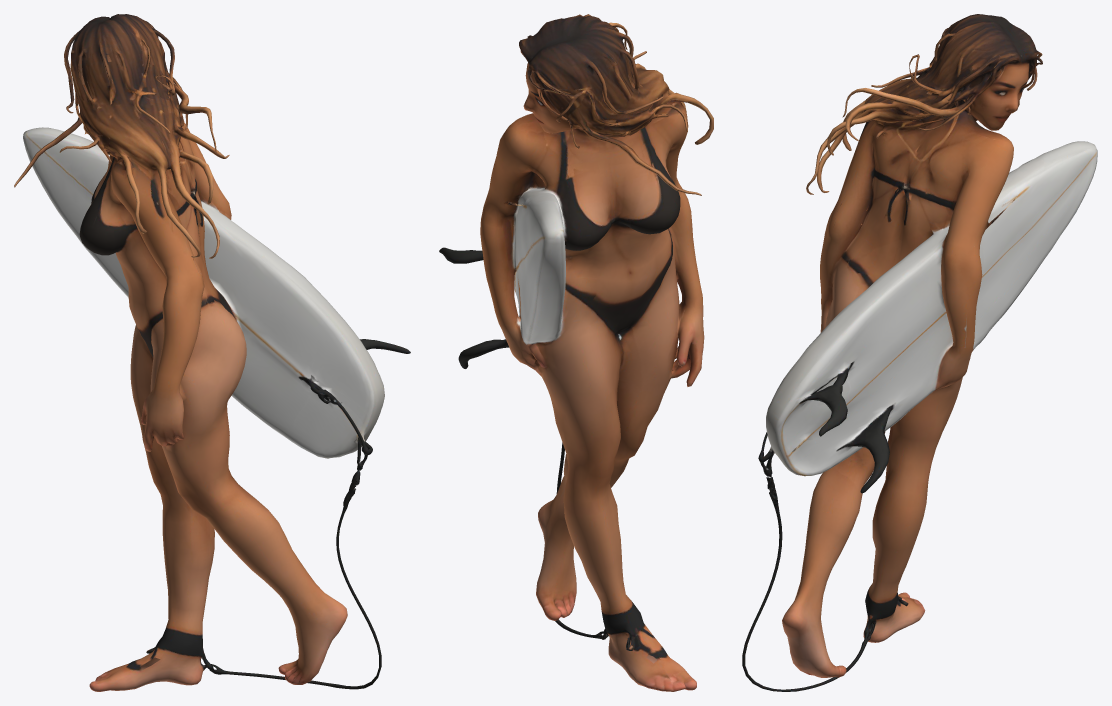
File: female_surfer_lean.glb
3 views of the same model, side by side, from view 1: azimuth 30°, elevation 25°; view 2: azimuth 150°, elevation 25°; view 3: azimuth 270°, elevation 25° (orthographic). The views are drawn at different scales.
Parts seen in each view (by area): view 1: tripo_node_350cb565-4360-4d06-a466-bc84aff24f34; view 2: tripo_node_350cb565-4360-4d06-a466-bc84aff24f34; view 3: tripo_node_350cb565-4360-4d06-a466-bc84aff24f34.
Boxes of the visible parts, box(x1,y1,x2,y2) form: tripo_node_350cb565-4360-4d06-a466-bc84aff24f34: box(14, 14, 410, 691); tripo_node_350cb565-4360-4d06-a466-bc84aff24f34: box(439, 14, 713, 691); tripo_node_350cb565-4360-4d06-a466-bc84aff24f34: box(742, 14, 1097, 691).
Size of the model in its own units: 0.7965 by 1.51 by 0.7883.
1 material, 1 textured.
